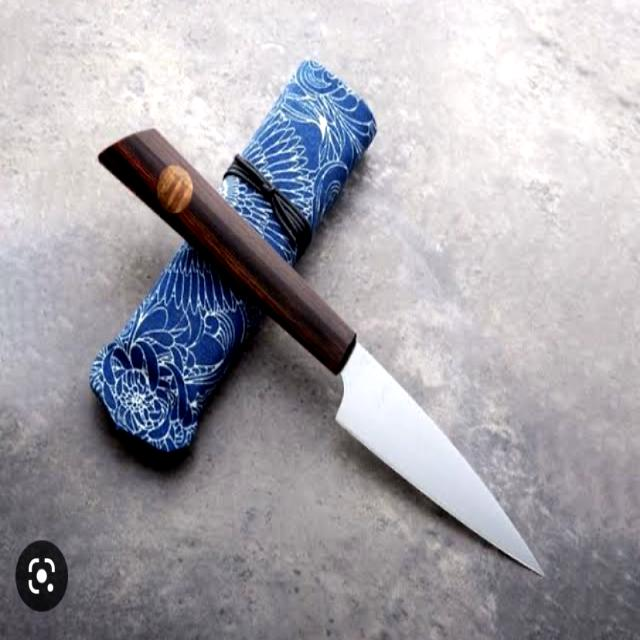knife: (89, 108, 556, 580)
